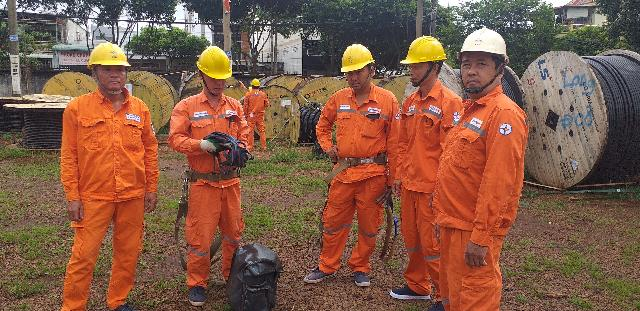harness: (321, 141, 389, 176), (185, 162, 246, 187)
helmet: (85, 40, 134, 84), (460, 25, 509, 64), (403, 27, 448, 68), (333, 42, 379, 79), (189, 42, 228, 85), (244, 79, 263, 90)
shoes: (291, 266, 340, 286), (390, 284, 429, 302), (351, 264, 371, 290), (106, 299, 148, 311), (185, 284, 202, 307)
